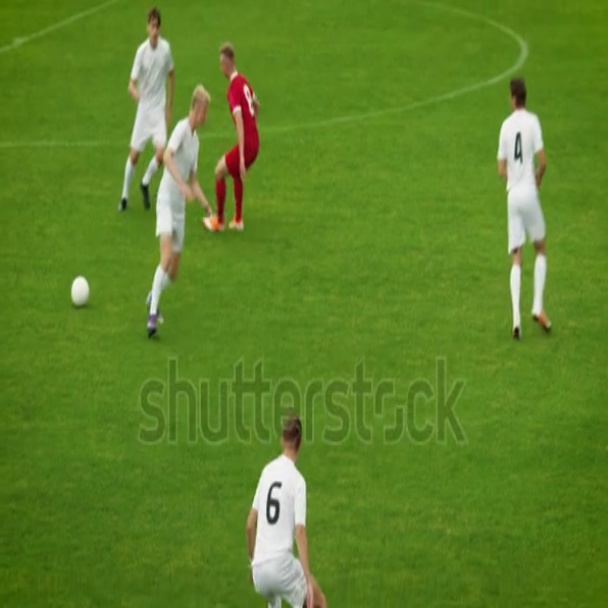ball: (73, 276, 90, 305)
